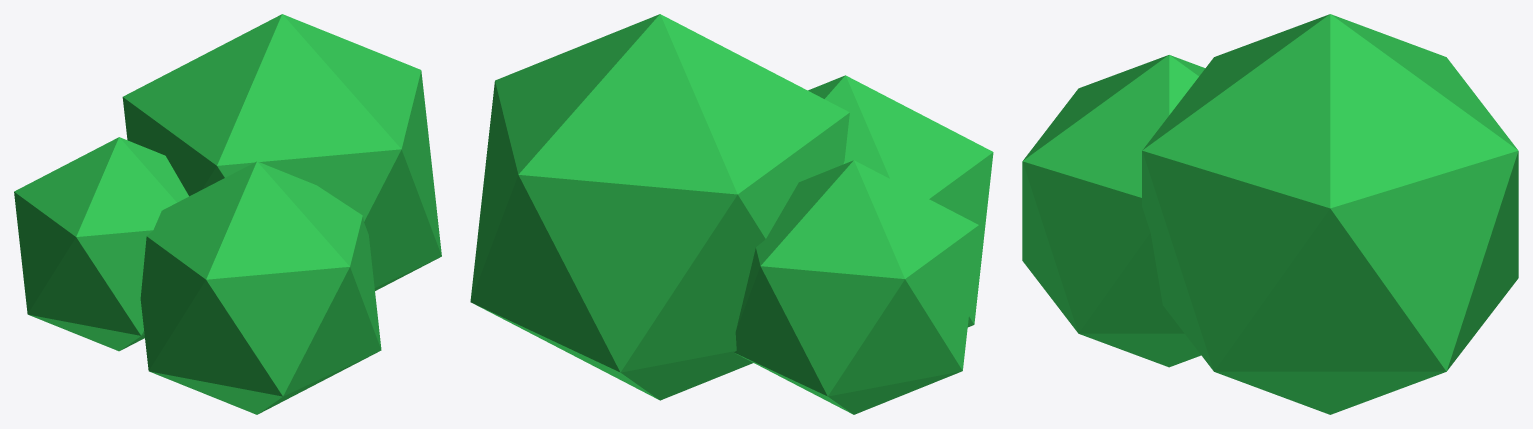
Rendered from krzaki.fbx.
3 views of the same model, side by side, from view 1: azimuth 30°, elevation 25°; view 2: azimuth 150°, elevation 25°; view 3: azimuth 270°, elevation 25° (orthographic). The views are drawn at different scales.
Parts seen in each view (by area): view 1: Icosphere.006; view 2: Icosphere.006; view 3: Icosphere.006.
Boxes of the visible parts, x1,y1,x2,y2 form: Icosphere.006: (14, 14, 441, 414); Icosphere.006: (470, 14, 993, 414); Icosphere.006: (1022, 14, 1518, 414).
Size of the model in its own units: 77.58 by 62.32 by 68.68.
